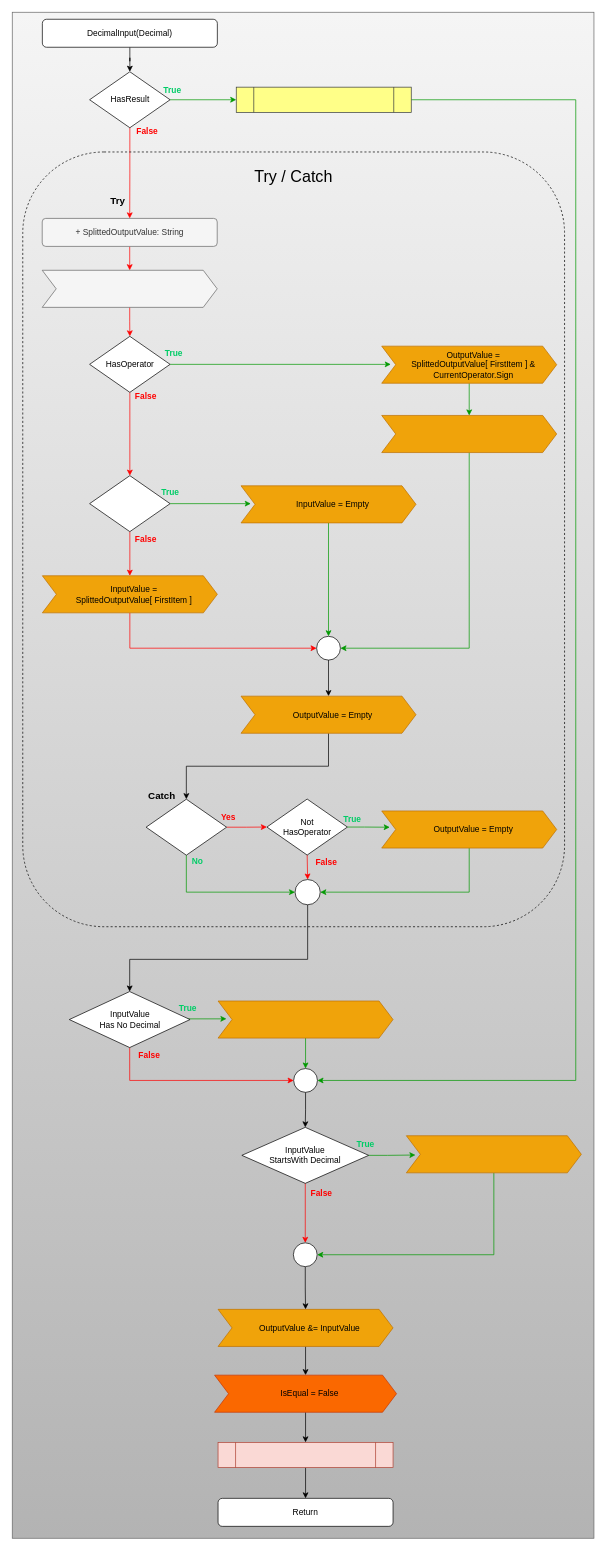
Some shapes in this 606 by 1551 pixel diagram are drawn without their labels. Each missing label, with the centre of its shape:
Display(OutputValue): [305,1455]
Error: [186,826]
InputValue &= Decimal: [305,1019]
InputValue = "0" & InputValue: [493,1154]
InputValue = SplittedOutputValue[ SecondItem ]: [469,434]
IsEqual: [129,503]
ResetValues(): [323,99]
SplittedOutputValue = OutputValue.Split(CurrentOperator.Sign): [129,288]
